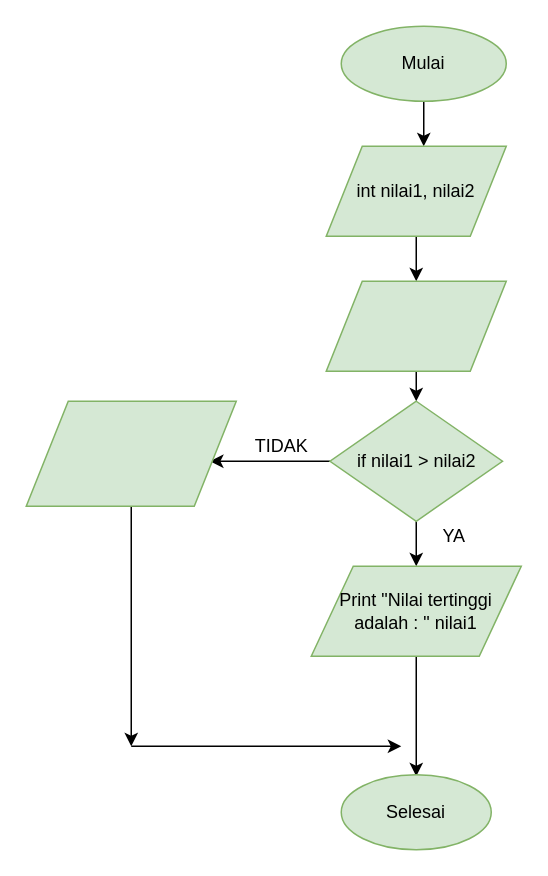
Some shapes in this 548 by 876 pixel diagram are drawn without their labels. Each missing label, with the centre of its shape:
Input nilai1, nilai2: pixel 415 325
Print "Nilai tertinggi adalah :" nilai2: pixel 130 453
